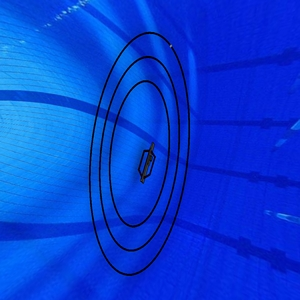circle: (88, 30, 193, 277)
submarine: (137, 140, 159, 186)
